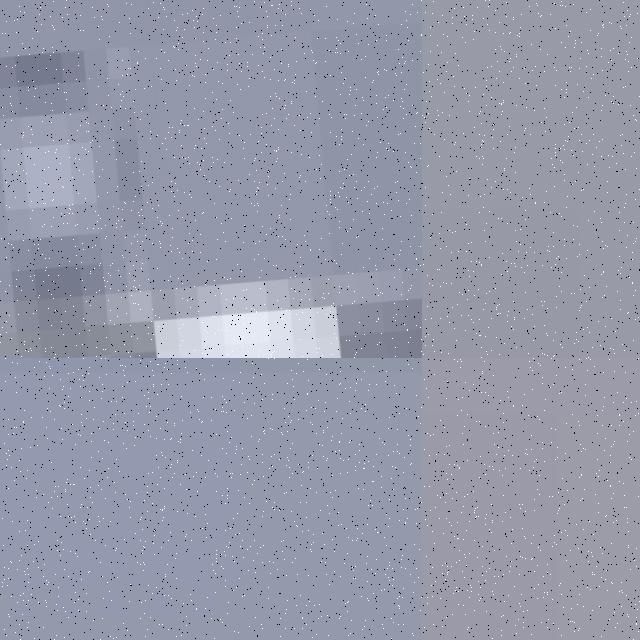drone: (0, 0, 422, 358)
